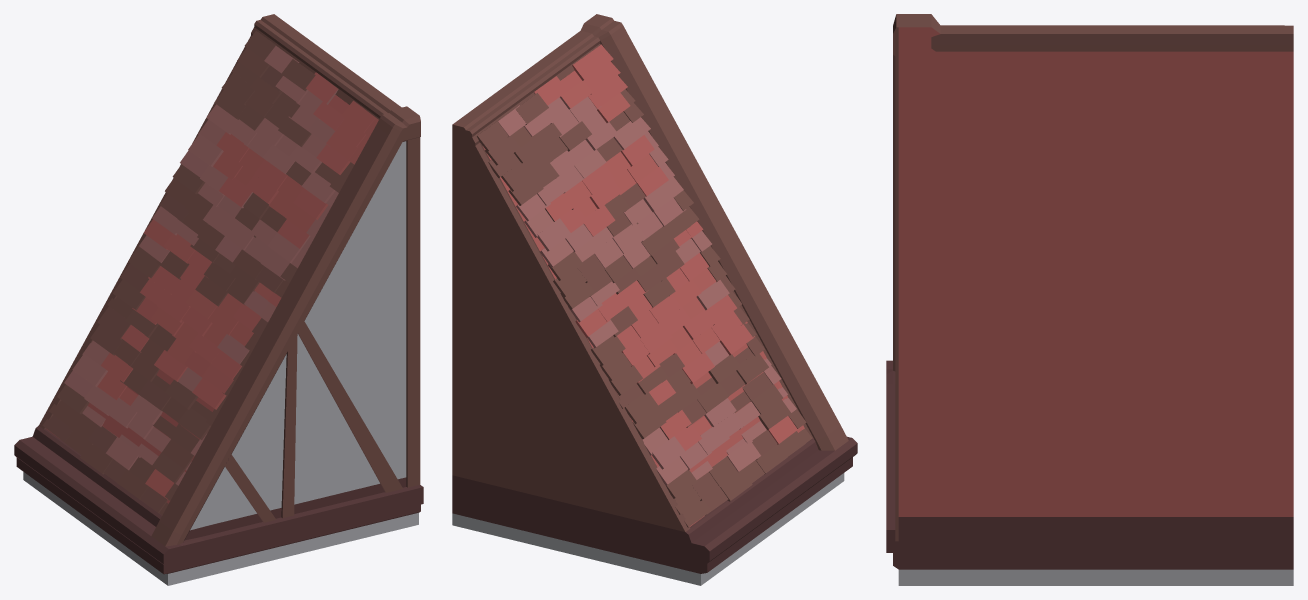
The model's file is RoofEdge_1_S.fbx.
3 views of the same model, side by side, from view 1: azimuth 30°, elevation 25°; view 2: azimuth 150°, elevation 25°; view 3: azimuth 270°, elevation 25° (orthographic). The views are drawn at different scales.
Visible parts, largest first — view 1: RoofEdge_1_S; view 2: RoofEdge_1_S; view 3: RoofEdge_1_S.
Boxes of the visible parts, x1,y1,x2,y2 form: RoofEdge_1_S: (14, 14, 423, 585); RoofEdge_1_S: (452, 14, 857, 585); RoofEdge_1_S: (886, 14, 1293, 585).
Bounding box in the file's own units: 207 × 206 × 312.
